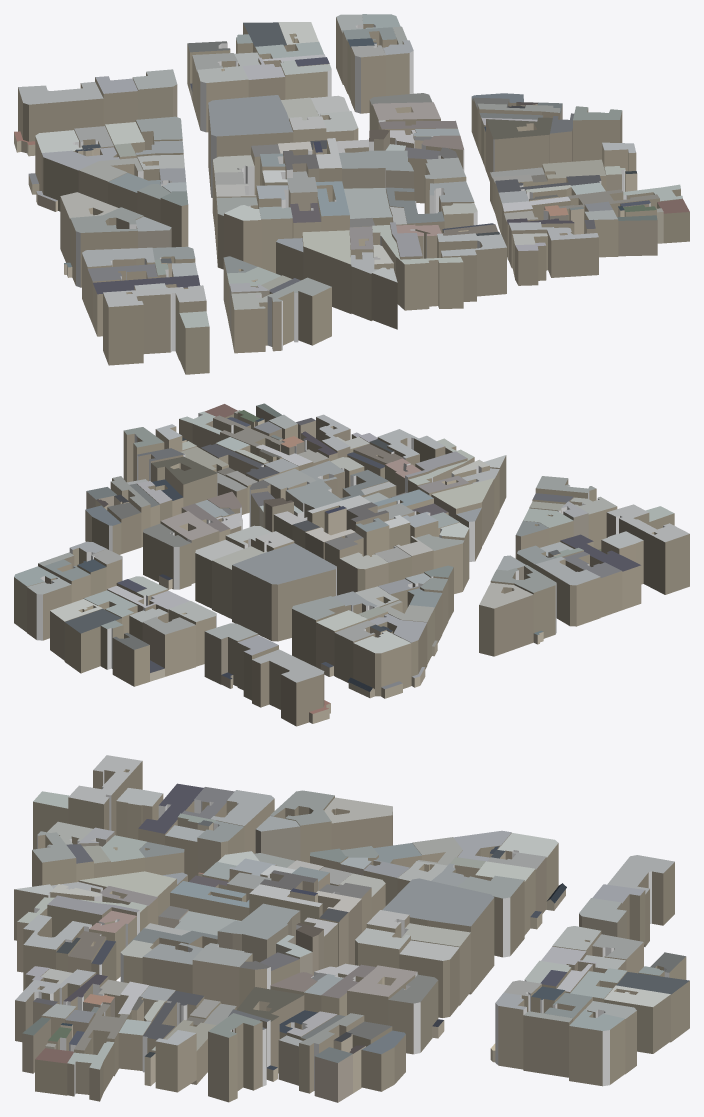
3 views of the same model, one above another, from view 1: azimuth 30°, elevation 25°; view 2: azimuth 150°, elevation 25°; view 3: azimuth 270°, elevation 25° (orthographic). The views are drawn at different scales.
Visible parts, largest first — view 1: tuile; view 2: tuile; view 3: tuile.
Boxes of the visible parts, box(x1,y1,x2,y2) form: tuile: box(14, 14, 689, 374); tuile: box(14, 403, 689, 726); tuile: box(14, 755, 689, 1102).
Bounding box in the file's own units: 278 × 38.52 × 264.
